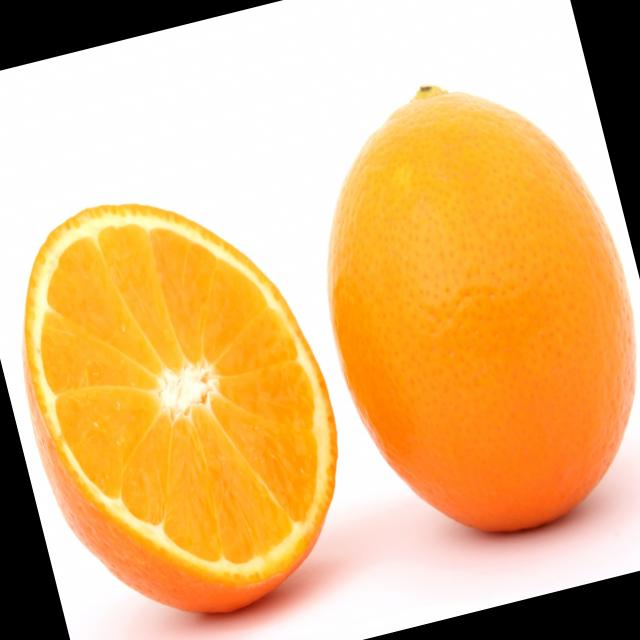orange: (282, 53, 640, 596)
